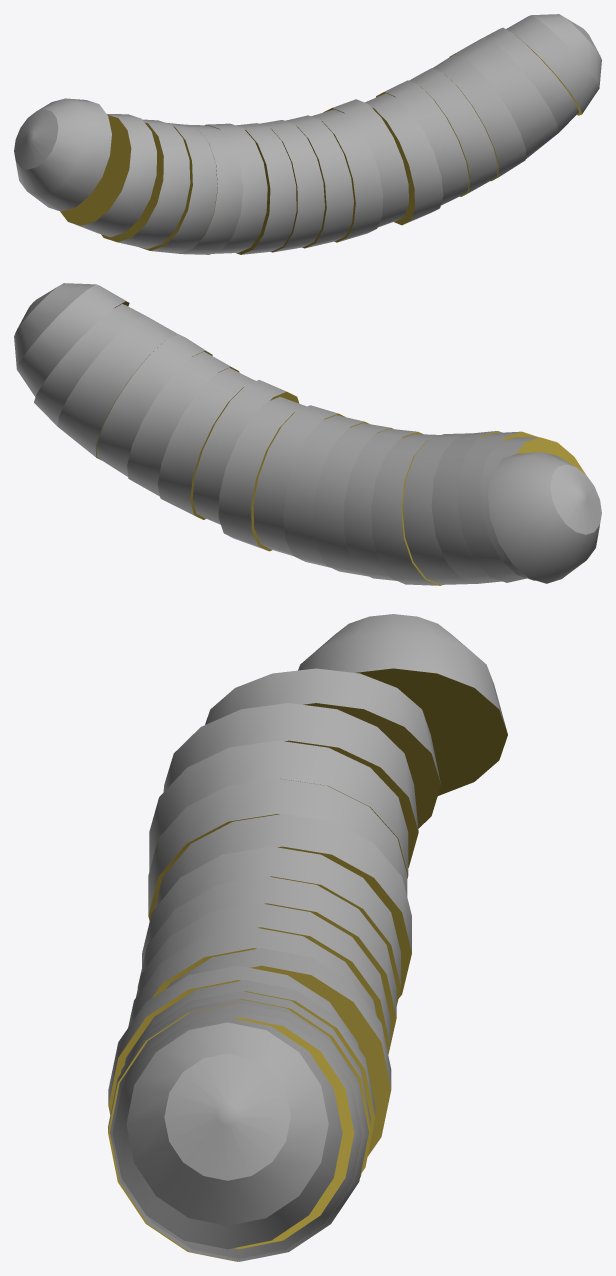
The model's file is banana.fbx.
The picture shows the model from 3 angles, top to bottom: view 1: azimuth 30°, elevation 25°; view 2: azimuth 150°, elevation 25°; view 3: azimuth 270°, elevation 25°; orthographic projection. The views are drawn at different scales.
Parts seen in each view (by area): view 1: polySurface2, polySurface17, polySurface11, polySurface9, polySurface5, polySurface1, polySurface6, polySurface15, polySurface13, polySurface7, polySurface12, polySurface8 (+7 smaller); view 2: polySurface2, polySurface9, polySurface14, polySurface10, polySurface6, polySurface15, polySurface19, polySurface13, polySurface8, polySurface18, polySurface12, polySurface5 (+7 smaller); view 3: polySurface3, polySurface2, polySurface7, polySurface11, polySurface17, polySurface18, polySurface4, polySurface19, polySurface1, polySurface8, polySurface10, polySurface12 (+7 smaller).
Boxes of the visible parts, x1,y1,x2,y2 form: polySurface2: (14,98,111,211); polySurface17: (60,114,156,237); polySurface11: (101,119,190,248); polySurface9: (449,37,558,158); polySurface5: (365,93,443,225); polySurface1: (236,123,296,254); polySurface6: (433,54,525,181); polySurface15: (409,68,497,196); polySurface13: (311,109,383,242); polySurface7: (140,122,217,253); polySurface12: (285,115,353,248); polySurface8: (259,120,324,252); polySurface2: (488,452,601,583); polySurface9: (57,315,177,460); polySurface14: (158,368,255,519); polySurface10: (218,397,306,551); polySurface6: (97,334,212,476); polySurface15: (127,351,239,496); polySurface19: (371,434,442,585); polySurface13: (253,405,344,555); polySurface8: (313,423,393,576); polySurface18: (402,433,474,584); polySurface12: (283,415,369,567); polySurface5: (192,380,299,524); polySurface3: (126,1022,328,1225); polySurface2: (298,614,507,795); polySurface7: (149,740,408,878); polySurface11: (163,703,418,867); polySurface17: (205,668,440,828); polySurface18: (148,778,407,920); polySurface4: (112,1017,342,1249); polySurface19: (155,814,411,998); polySurface1: (142,846,400,1005); polySurface8: (137,876,396,1051); polySurface10: (166,948,391,1156); polySurface12: (136,903,390,1054).
Size of the model in its own units: 5.72 by 1.77 by 1.86.
